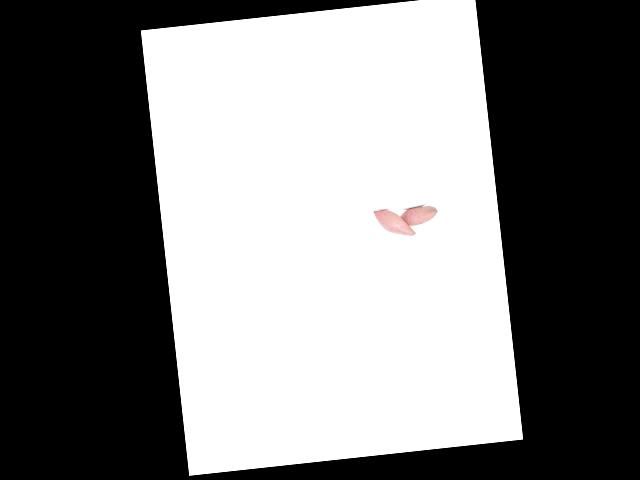sweet_potato: (396, 204, 440, 229)
